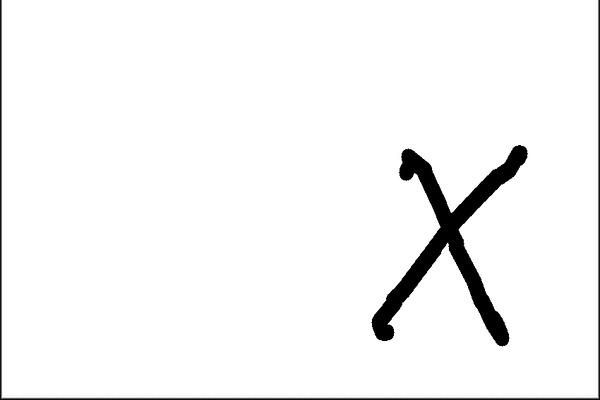X: (356, 133, 536, 363)
